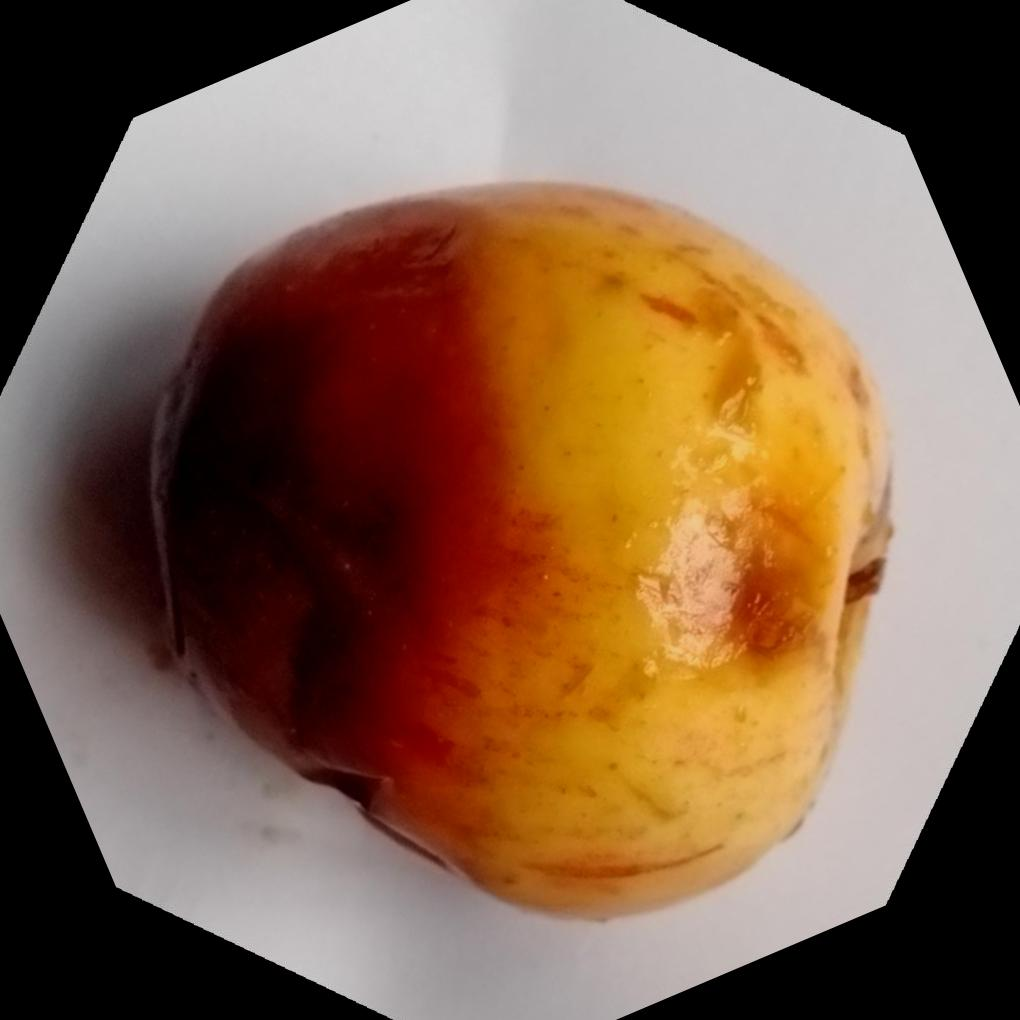FreshOrange: (149, 176, 895, 924)
